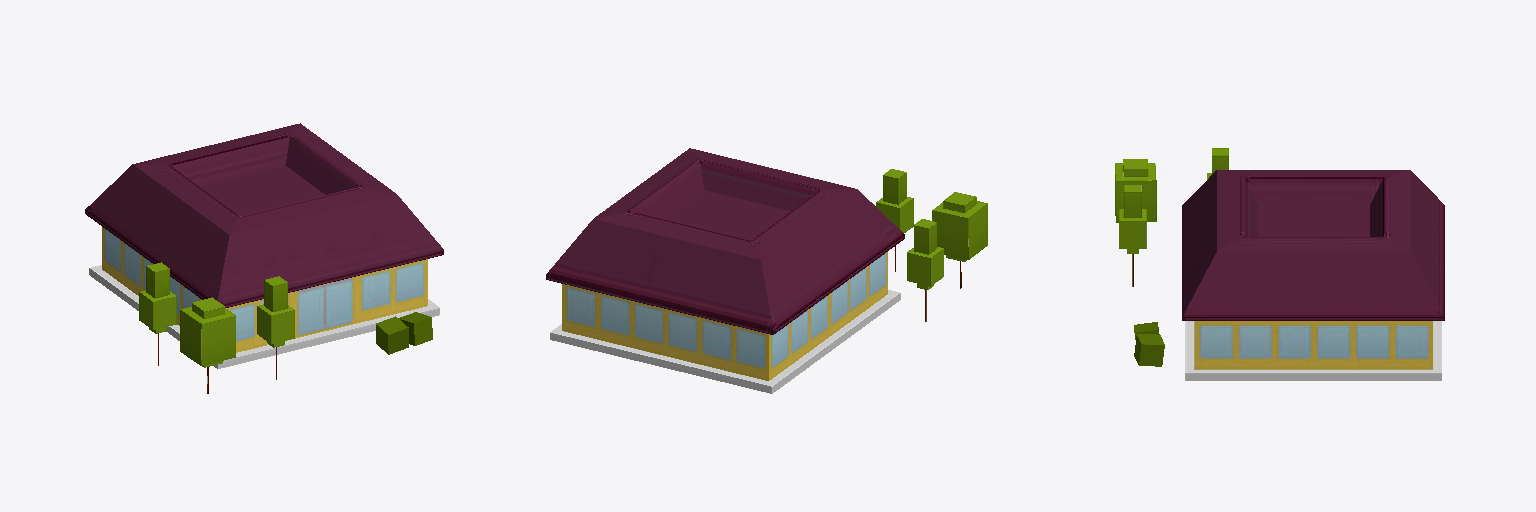
The picture shows the model from 3 angles: view 1: azimuth 30°, elevation 25°; view 2: azimuth 150°, elevation 25°; view 3: azimuth 270°, elevation 25°; orthographic projection.
Visible parts, largest first — view 1: business_shop_1lvl_Mesh.4803, Tree_3_499_2.001_Mesh.209, Tree_2_3_61.003_Mesh.210, Tree_2_3_61.002_Mesh.208, Cube_51.012_Mesh.194, Cube_51.013_Mesh.195; view 2: business_shop_1lvl_Mesh.4803, Tree_3_499_2.001_Mesh.209, Tree_2_3_61.002_Mesh.208, Tree_2_3_61.003_Mesh.210; view 3: business_shop_1lvl_Mesh.4803, Tree_3_499_2.001_Mesh.209, Tree_2_3_61.003_Mesh.210, Cube_51.013_Mesh.195.
Part boxes in pixels (x1,y1,x2,y2): business_shop_1lvl_Mesh.4803: (85, 123, 443, 368); Tree_3_499_2.001_Mesh.209: (180, 297, 235, 393); Tree_2_3_61.003_Mesh.210: (257, 276, 294, 379); Tree_2_3_61.002_Mesh.208: (139, 262, 176, 365); Cube_51.012_Mesh.194: (376, 316, 408, 354); Cube_51.013_Mesh.195: (398, 312, 432, 345); business_shop_1lvl_Mesh.4803: (546, 148, 904, 393); Tree_3_499_2.001_Mesh.209: (932, 192, 987, 288); Tree_2_3_61.002_Mesh.208: (907, 219, 943, 321); Tree_2_3_61.003_Mesh.210: (876, 169, 913, 271); business_shop_1lvl_Mesh.4803: (1182, 170, 1444, 380); Tree_3_499_2.001_Mesh.209: (1115, 159, 1156, 222); Tree_2_3_61.003_Mesh.210: (1119, 185, 1146, 286); Cube_51.013_Mesh.195: (1134, 334, 1164, 366).
Size of the model in its own units: 1.86 by 0.7827 by 1.9.
4 materials, 3 textured.